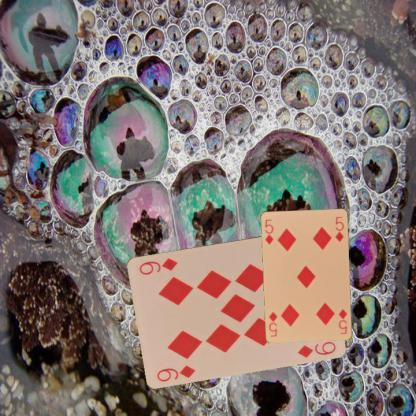5d: (262, 217, 275, 246), (336, 306, 348, 336)
9d: (154, 362, 196, 382)
